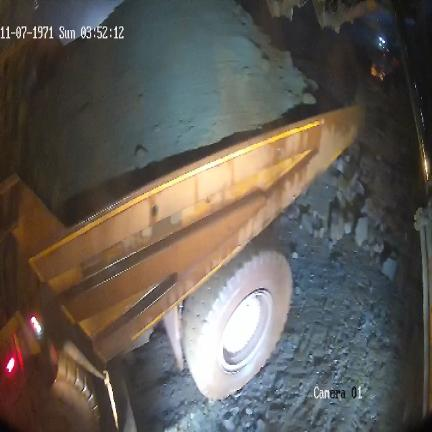pile: (37, 0, 321, 220), (278, 77, 425, 290)
